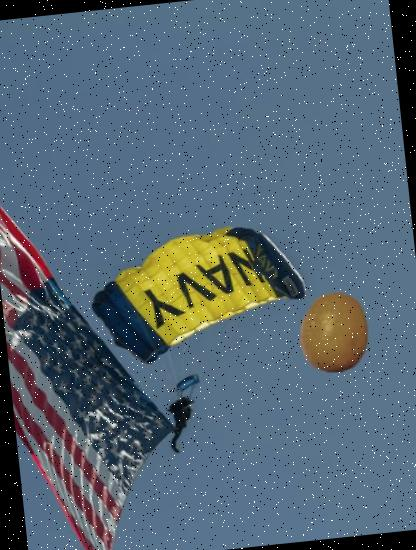Lemon: (288, 287, 378, 377)
